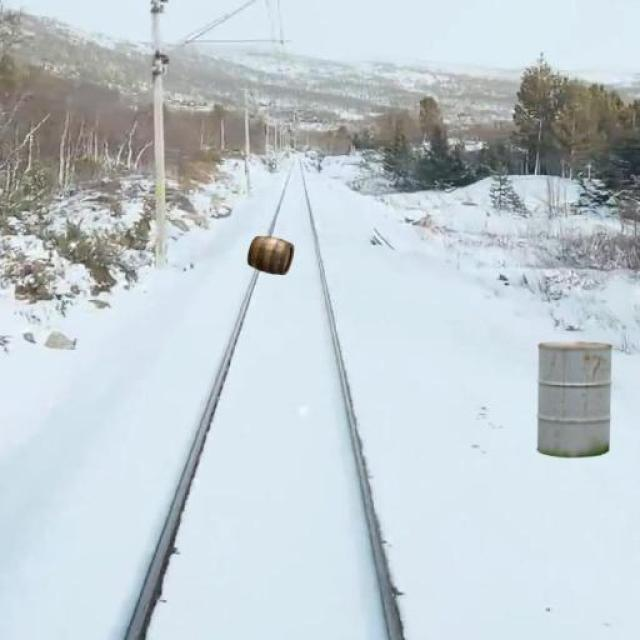Other_objects: (525, 332, 622, 462), (240, 232, 301, 278)
